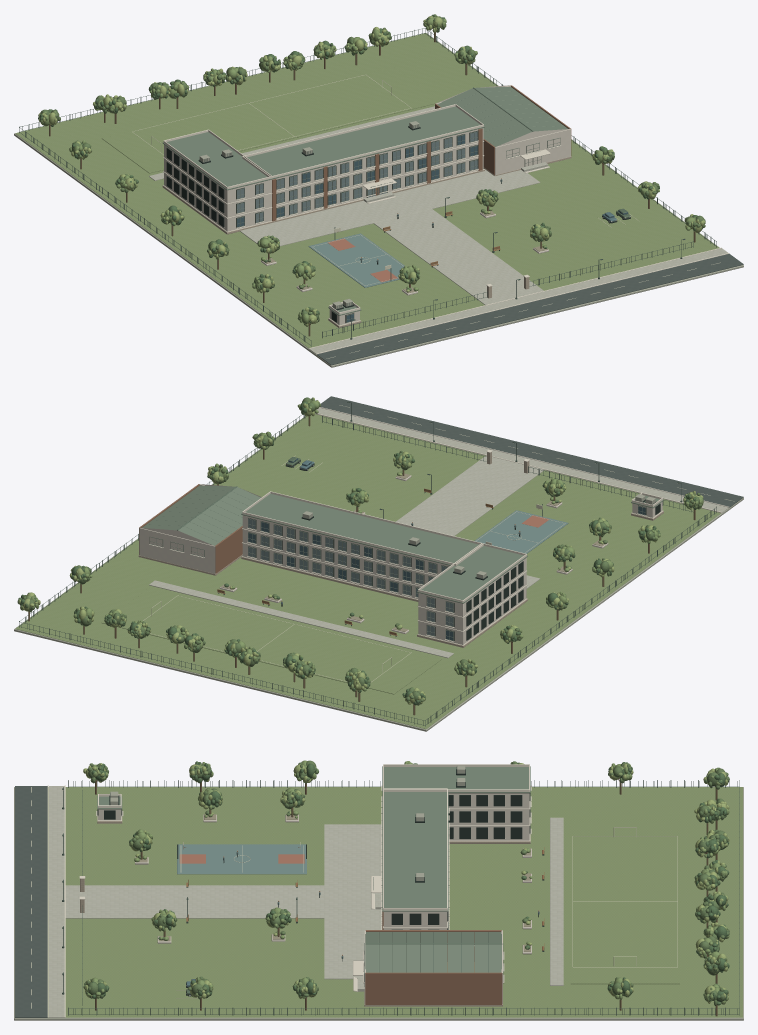
The model's file is school-connected.glb.
3 views of the same model, one above another, from view 1: azimuth 30°, elevation 25°; view 2: azimuth 150°, elevation 25°; view 3: azimuth 270°, elevation 25° (orthographic). The views are drawn at different scales.
Visible parts, largest first — view 1: 材质批次_grass, 材质批次_plaza_paving, 材质批次_sage_metal_roof, 材质批次_limestone, 材质批次_warm_cream_trim, 材质批次_asphalt, 材质批次_street_metal, 材质批次_leaf_2, 材质批次_window_frames, 材质批次_leaf_0, 材质批次_poi_window_lit, 材质批次_poi_service_concrete (+9 smaller); view 2: 材质批次_grass, 材质批次_sage_metal_roof, 材质批次_limestone, 材质批次_plaza_paving, 材质批次_warm_cream_trim, 材质批次_asphalt, 材质批次_street_metal, 材质批次_leaf_1, 材质批次_window_frames, 材质批次_leaf_2, 材质批次_poi_service_concrete, 材质批次_leaf_0 (+9 smaller); view 3: 材质批次_grass, 材质批次_plaza_paving, 材质批次_sage_metal_roof, 材质批次_asphalt, 材质批次_poi_brick_red, 材质批次_warm_cream_trim, 材质批次_street_metal, 材质批次_limestone, 材质批次_leaf_1, 材质批次_poi_service_concrete, 材质批次_school_court, 材质批次_leaf_3 (+7 smaller).
Boxes of the visible parts, x1=… form: 材质批次_grass: x1=15, y1=33, x2=719, y2=348; 材质批次_plaza_paving: x1=149, y1=106, x2=727, y2=353; 材质批次_sage_metal_roof: x1=162, y1=87, x2=567, y2=315; 材质批次_limestone: x1=164, y1=85, x2=570, y2=325; 材质批次_warm_cream_trim: x1=163, y1=104, x2=729, y2=354; 材质批次_asphalt: x1=317, y1=253, x2=743, y2=365; 材质批次_street_metal: x1=19, y1=27, x2=716, y2=346; 材质批次_leaf_2: x1=38, y1=16, x2=704, y2=326; 材质批次_window_frames: x1=236, y1=131, x2=560, y2=322; 材质批次_leaf_0: x1=38, y1=16, x2=705, y2=324; 材质批次_poi_window_lit: x1=237, y1=132, x2=477, y2=222; 材质批次_poi_service_concrete: x1=14, y1=33, x2=743, y2=367; 材质批次_grass: x1=15, y1=414, x2=720, y2=729; 材质批次_sage_metal_roof: x1=142, y1=485, x2=663, y2=603; 材质批次_limestone: x1=139, y1=475, x2=662, y2=644; 材质批次_plaza_paving: x1=149, y1=407, x2=728, y2=658; 材质批次_warm_cream_trim: x1=149, y1=407, x2=729, y2=645; 材质批次_asphalt: x1=320, y1=396, x2=743, y2=507; 材质批次_street_metal: x1=19, y1=401, x2=716, y2=726; 材质批次_leaf_1: x1=17, y1=397, x2=701, y2=704; 材质批次_window_frames: x1=149, y1=506, x2=646, y2=641; 材质批次_leaf_2: x1=18, y1=397, x2=703, y2=704; 材质批次_poi_service_concrete: x1=14, y1=417, x2=743, y2=731; 材质批次_leaf_0: x1=20, y1=400, x2=703, y2=705; 材质批次_grass: x1=48, y1=787, x2=742, y2=1017; 材质批次_plaza_paving: x1=49, y1=786, x2=563, y2=1017; 材质批次_sage_metal_roof: x1=97, y1=766, x2=530, y2=972; 材质批次_asphalt: x1=15, y1=786, x2=47, y2=1017; 材质批次_poi_brick_red: x1=365, y1=911, x2=502, y2=1004; 材质批次_warm_cream_trim: x1=47, y1=764, x2=531, y2=1017; 材质批次_street_metal: x1=62, y1=767, x2=739, y2=1015; 材质批次_limestone: x1=98, y1=793, x2=531, y2=1004; 材质批次_leaf_1: x1=83, y1=760, x2=729, y2=1005; 材质批次_poi_service_concrete: x1=14, y1=765, x2=743, y2=1020; 材质批次_school_court: x1=177, y1=844, x2=306, y2=874; 材质批次_leaf_3: x1=89, y1=761, x2=729, y2=1005.
Bounding box in the file's own units: 122 × 14.55 × 160.
Materials: 34 (5 with a texture image).
